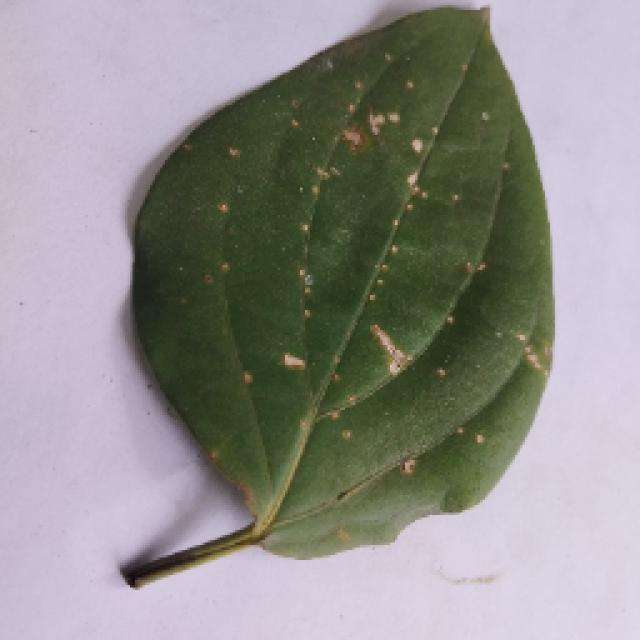pollu-disease: (82, 18, 582, 592)
